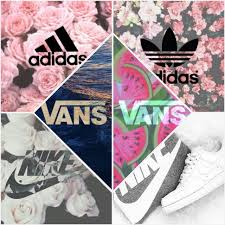adidas: (139, 25, 199, 84), (28, 25, 89, 65)
nike: (113, 137, 182, 225), (4, 164, 85, 199)
vans: (118, 99, 188, 127), (38, 101, 108, 127)
